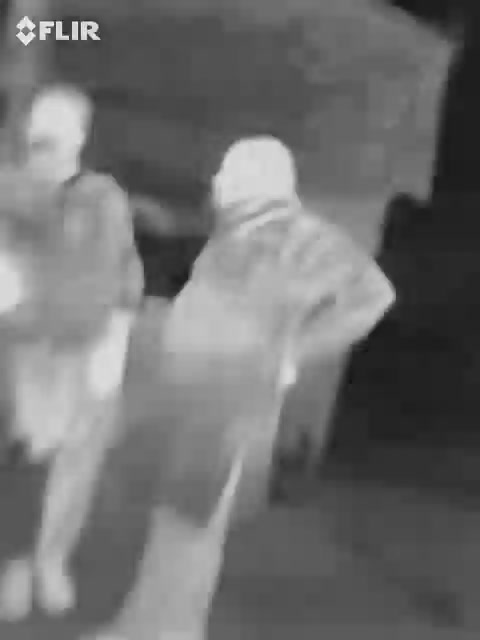head: (209, 131, 310, 217)
